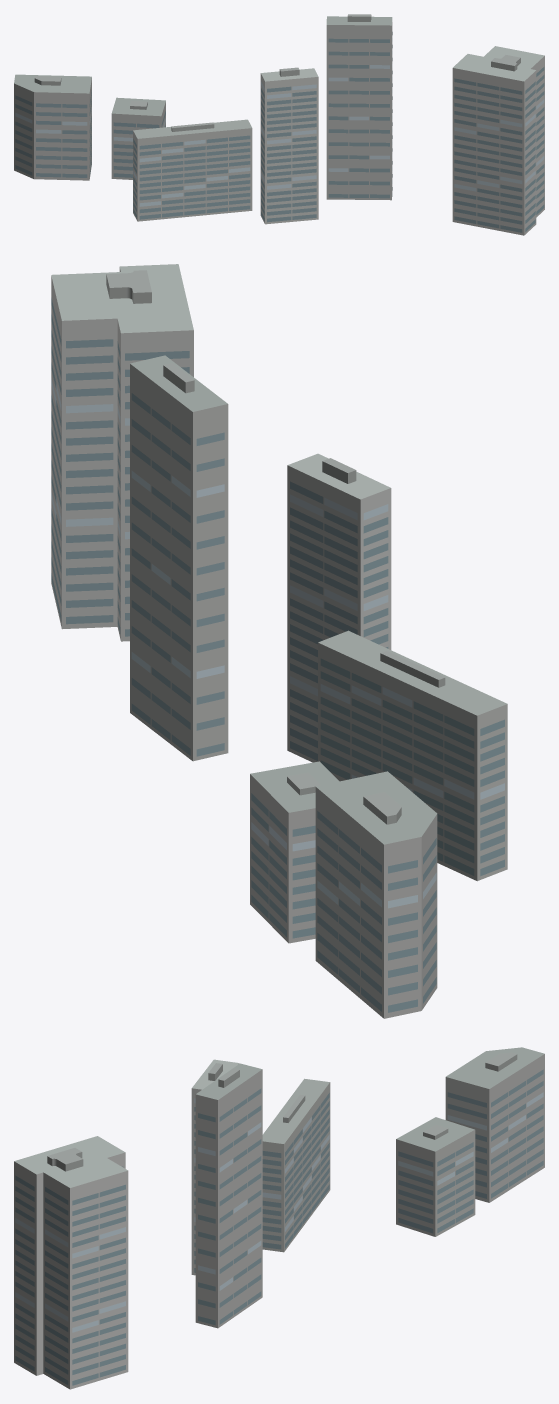
The model's file is apt-a10028063.glb.
3 views of the same model, one above another, from view 1: azimuth 30°, elevation 25°; view 2: azimuth 150°, elevation 25°; view 3: azimuth 270°, elevation 25° (orthographic). The views are drawn at different scales.
Visible parts, largest first — view 1: apt-a10028063; view 2: apt-a10028063; view 3: apt-a10028063.
Boxes of the visible parts, x1,y1,x2,y2 form: apt-a10028063: (14, 14, 544, 235); apt-a10028063: (51, 264, 507, 1018); apt-a10028063: (14, 1047, 544, 1389).
Bounding box in the file's own units: 164 × 79 × 161.
